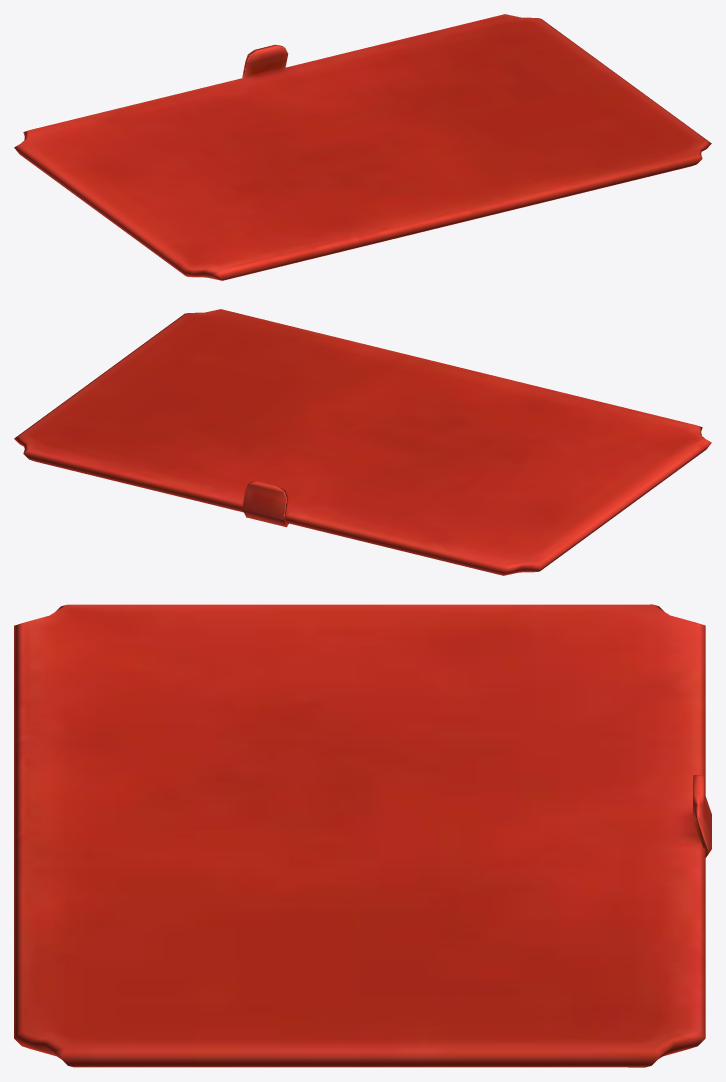
3 views of the same model, one above another, from view 1: azimuth 30°, elevation 25°; view 2: azimuth 150°, elevation 25°; view 3: azimuth 270°, elevation 25° (orthographic). The views are drawn at different scales.
Visible parts, largest first — view 1: SM_OpenJewelers_Box_Floor_LOD0; view 2: SM_OpenJewelers_Box_Floor_LOD0; view 3: SM_OpenJewelers_Box_Floor_LOD0.
Part boxes in pixels (box(x1,y1,x2,y2)): SM_OpenJewelers_Box_Floor_LOD0: box(14, 14, 711, 280); SM_OpenJewelers_Box_Floor_LOD0: box(14, 309, 711, 575); SM_OpenJewelers_Box_Floor_LOD0: box(14, 604, 711, 1067).
Size of the model in its own units: 0.3552 by 0.0244 by 0.232.
Materials: 1 (1 with a texture image).
